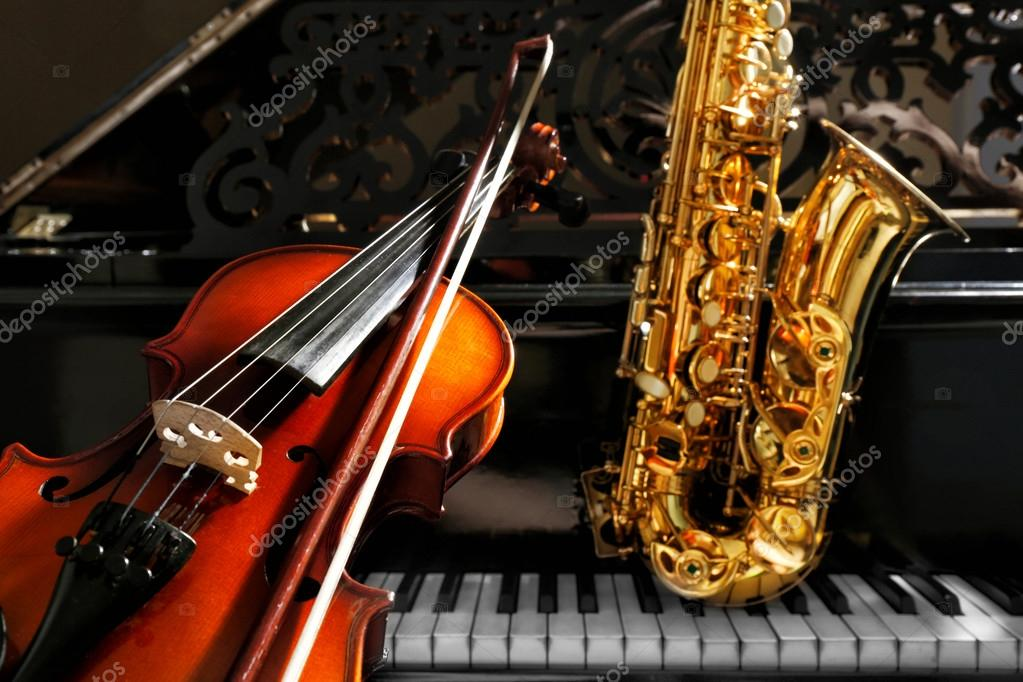Piano: (362, 355, 1023, 682)
Saxophone: (529, 1, 965, 595)
Violin: (1, 40, 618, 682)
